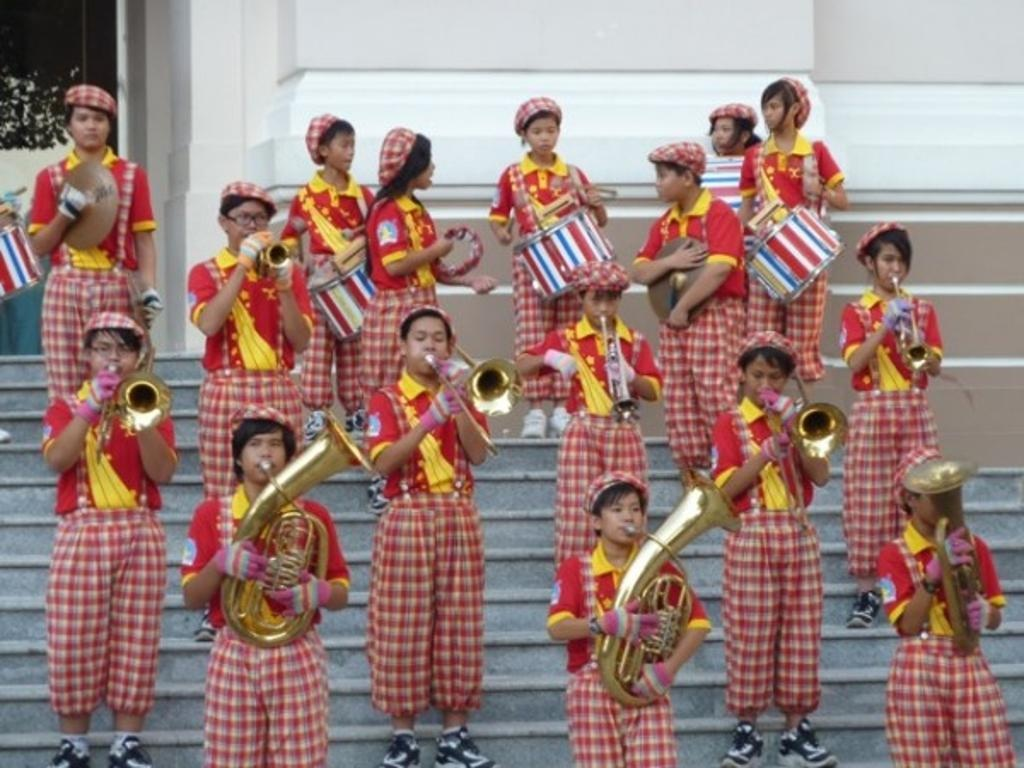human_face: (406, 315, 448, 375), (92, 330, 136, 380), (242, 429, 284, 481), (600, 491, 642, 543), (746, 355, 784, 407), (228, 198, 268, 246), (71, 104, 109, 148), (872, 240, 906, 288), (583, 286, 619, 326), (914, 484, 948, 524), (526, 117, 558, 155), (654, 162, 684, 201), (328, 130, 354, 170), (762, 92, 790, 128), (713, 116, 739, 152), (417, 152, 435, 190)
